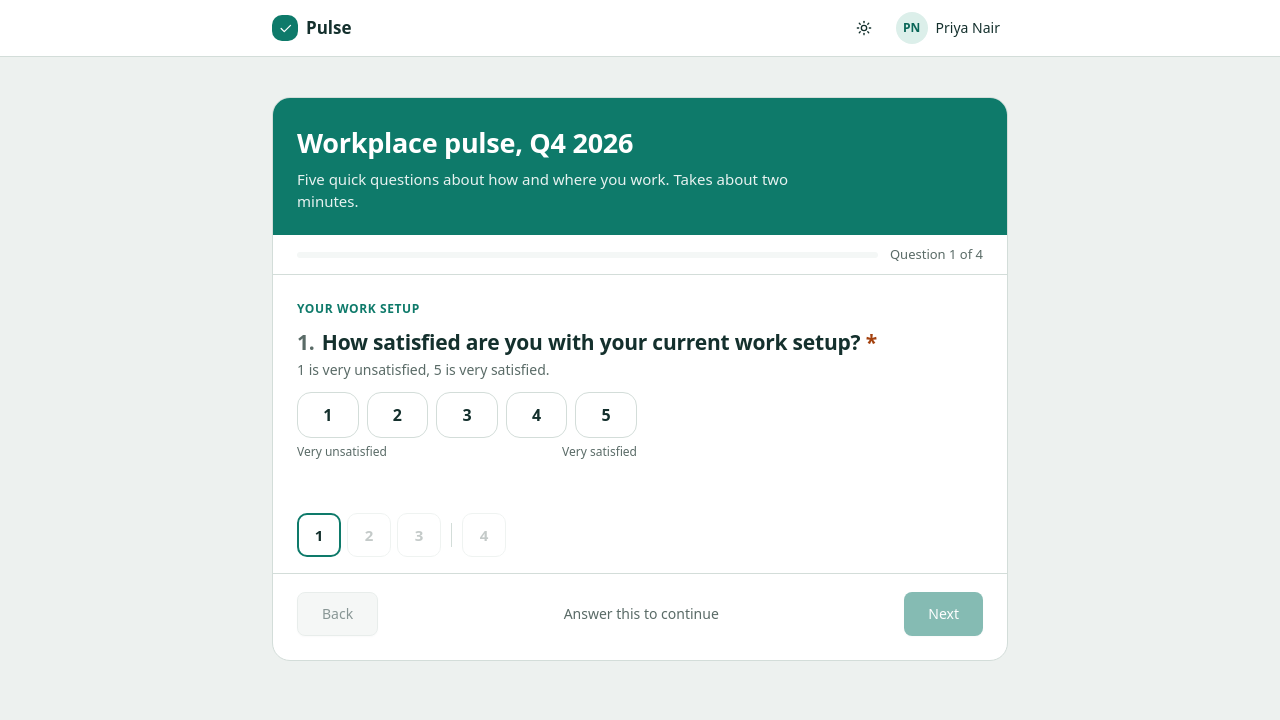
Test case: answering › autosaves answers about 1.5 s after the last change
Click the radio button labelled "4" at (537, 414), box [506,392,567,438]
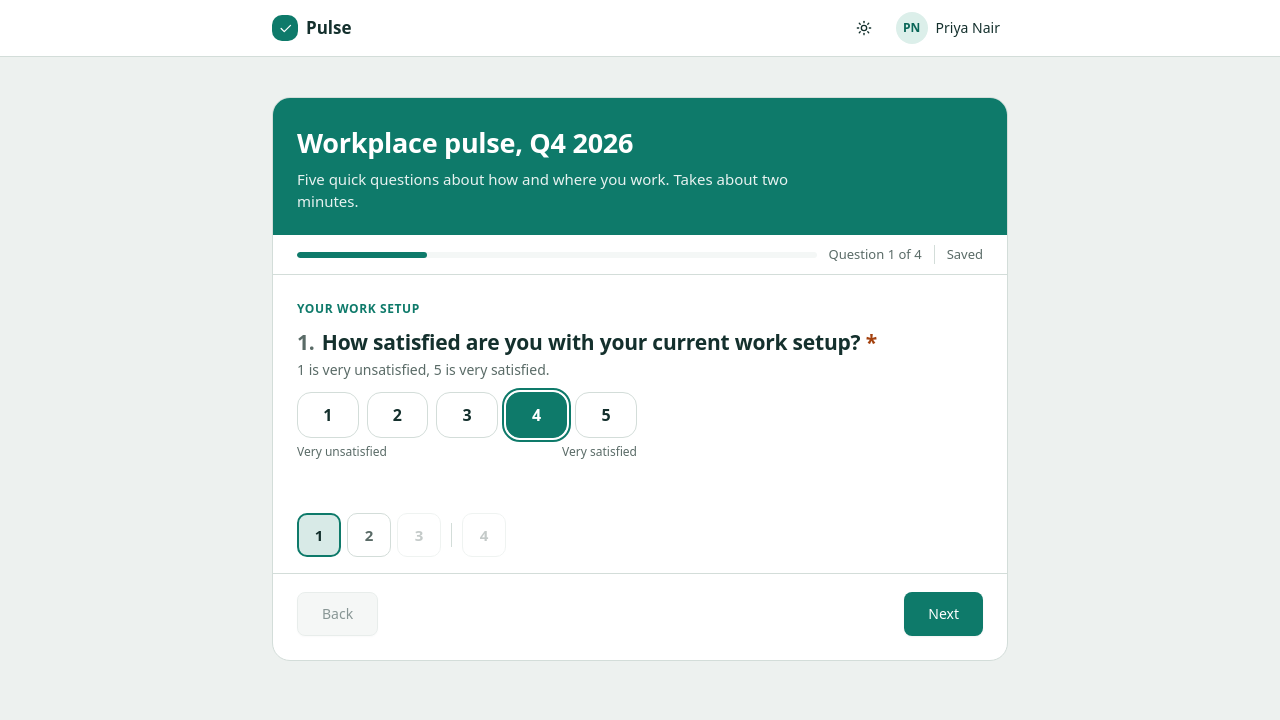
Result: the text "Saved" is shown at [934,245,983,264]
